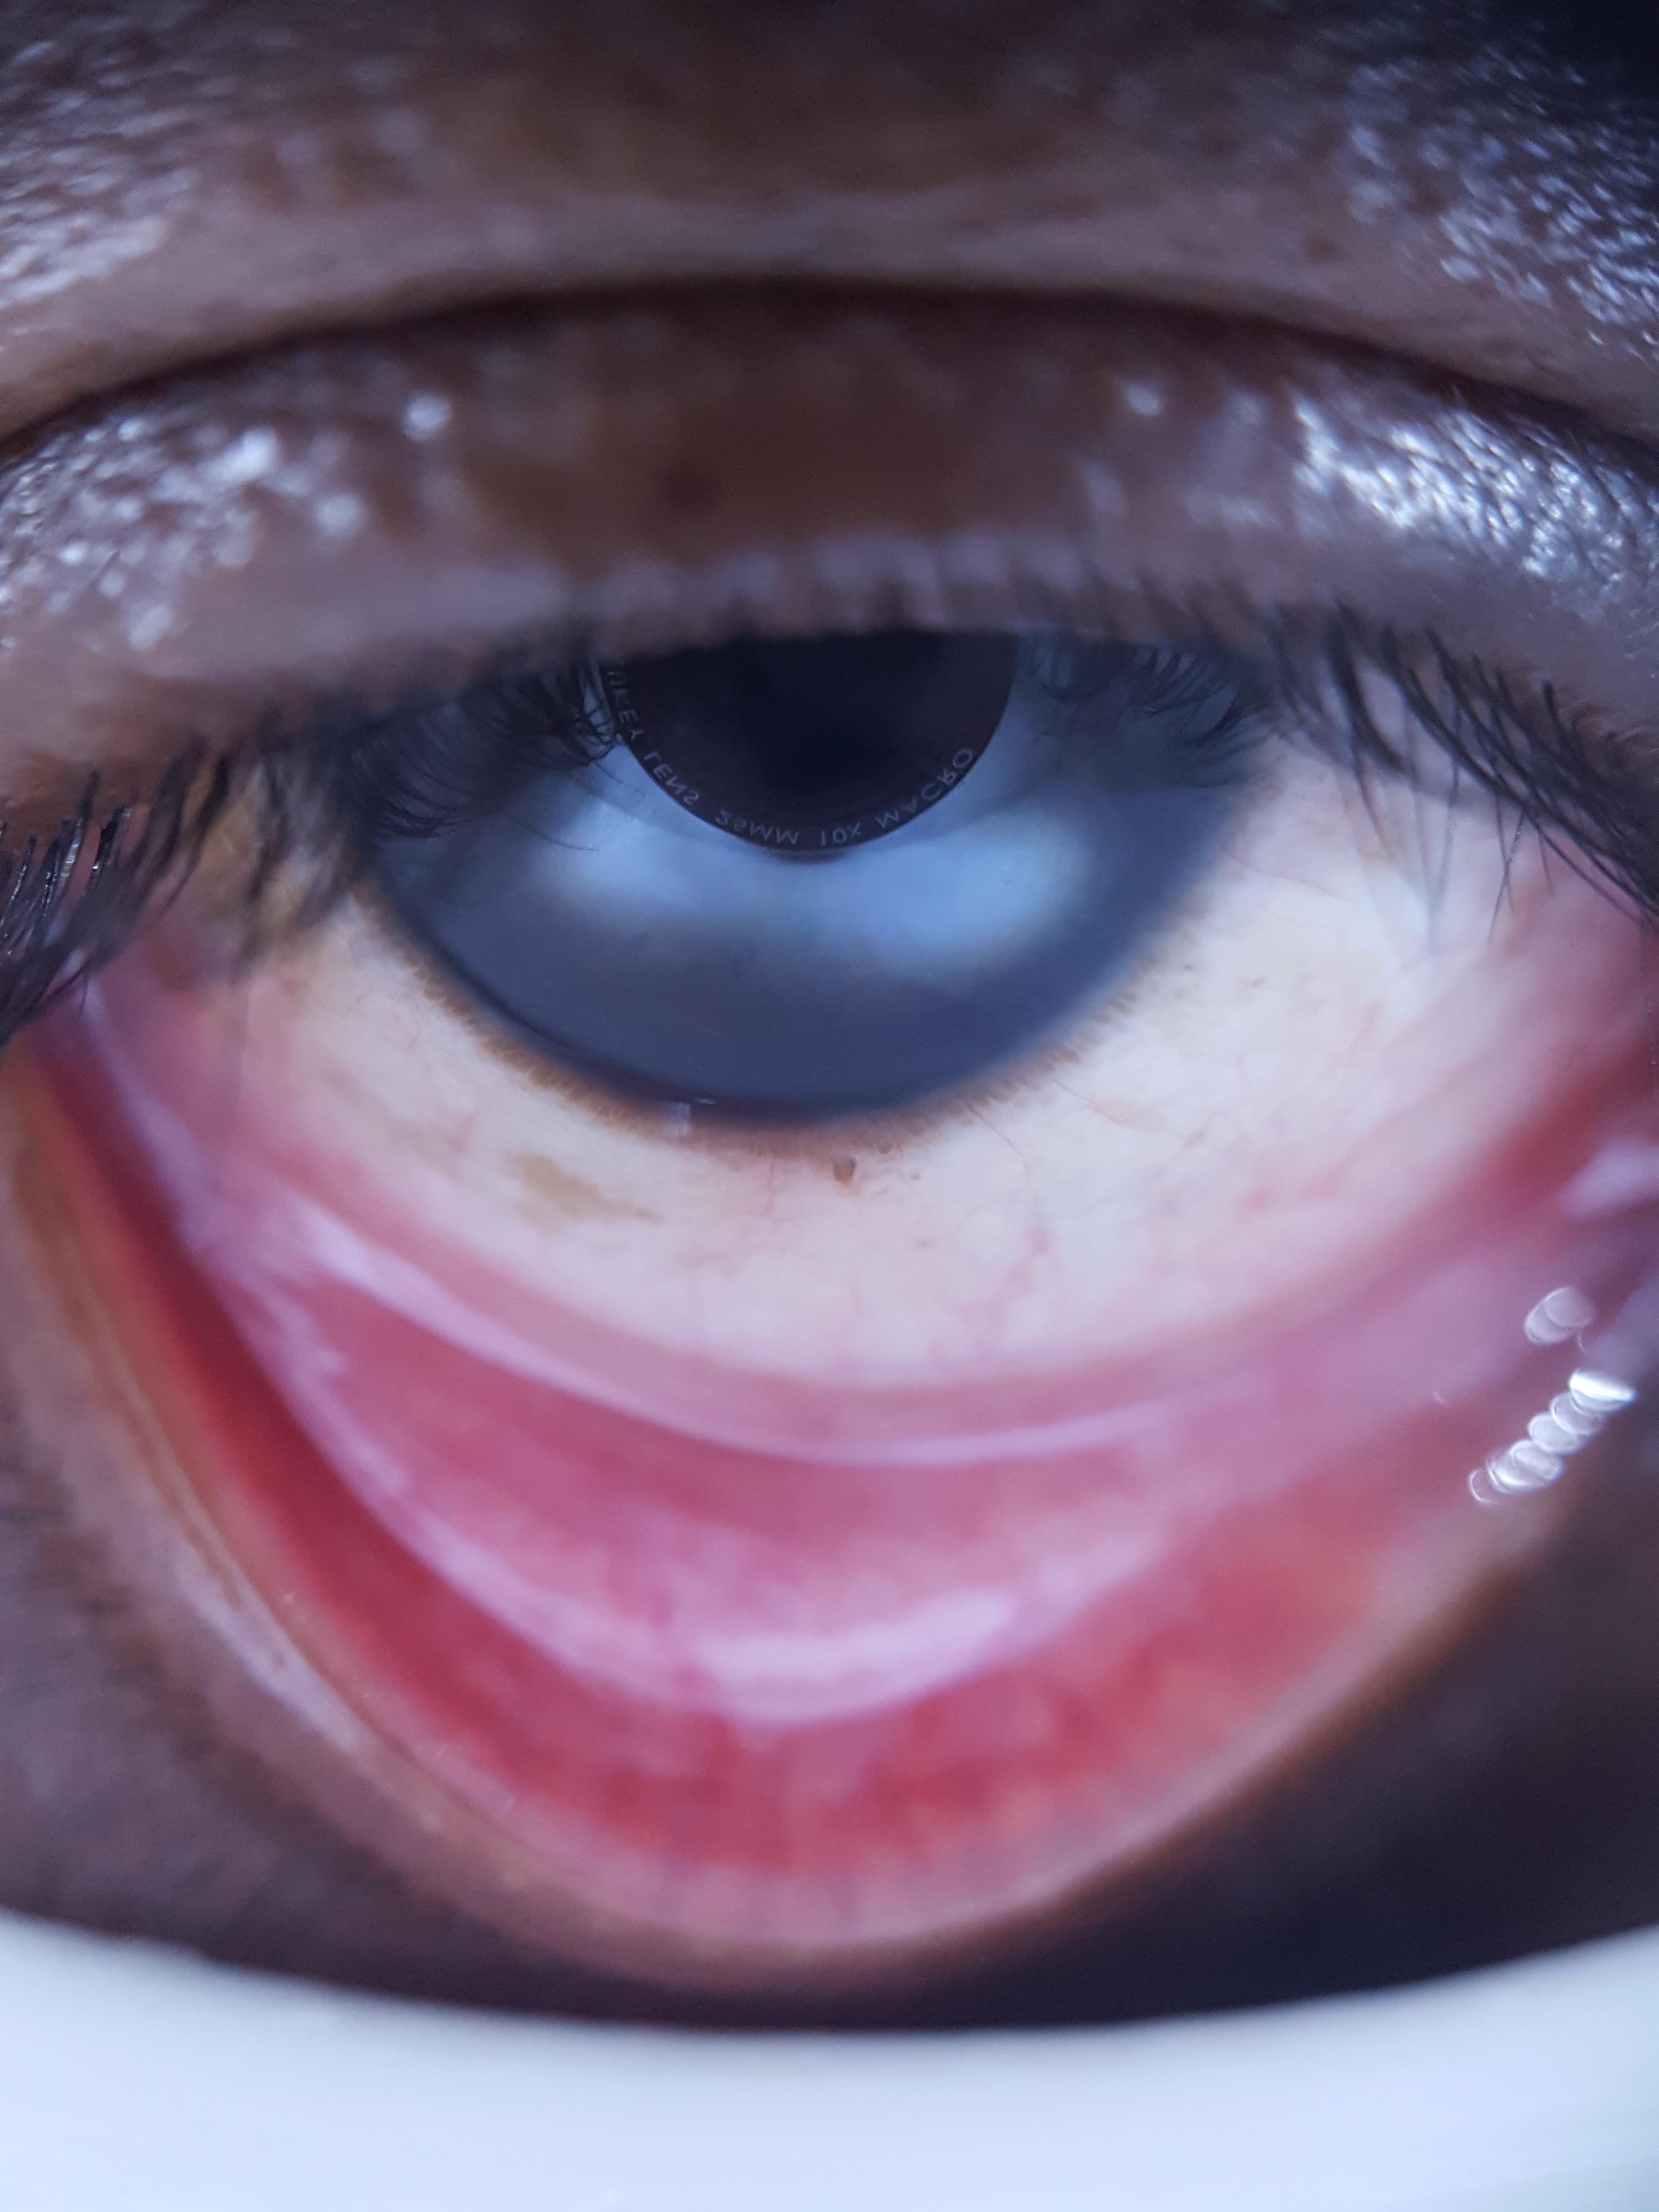forniceal: (159, 1150, 1530, 1716)
forniceal_palpebral: (31, 1116, 1568, 1904)
palpebral: (64, 1127, 1546, 1893)
